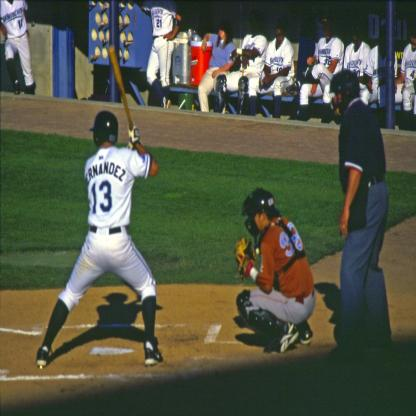Helmet: (240, 185, 284, 240), (86, 111, 114, 149)
